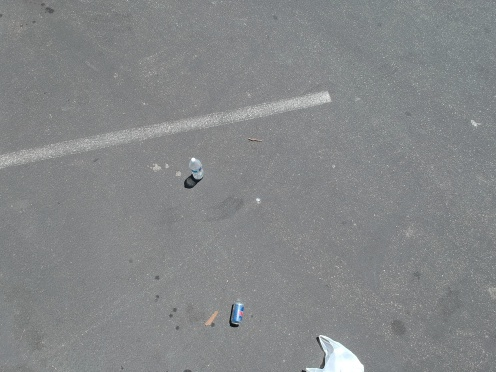bottle: (180, 155, 207, 182)
can: (226, 296, 248, 331)
plastic bag: (301, 328, 369, 372)
